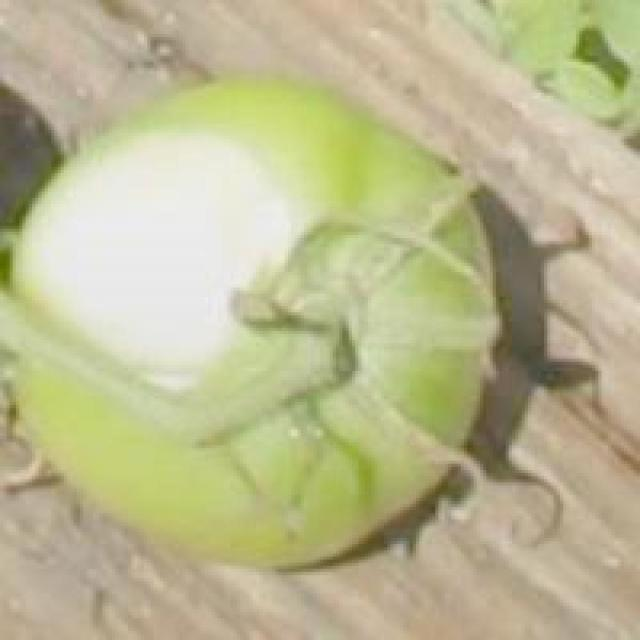Sunscald Fruit: (21, 83, 201, 261)
